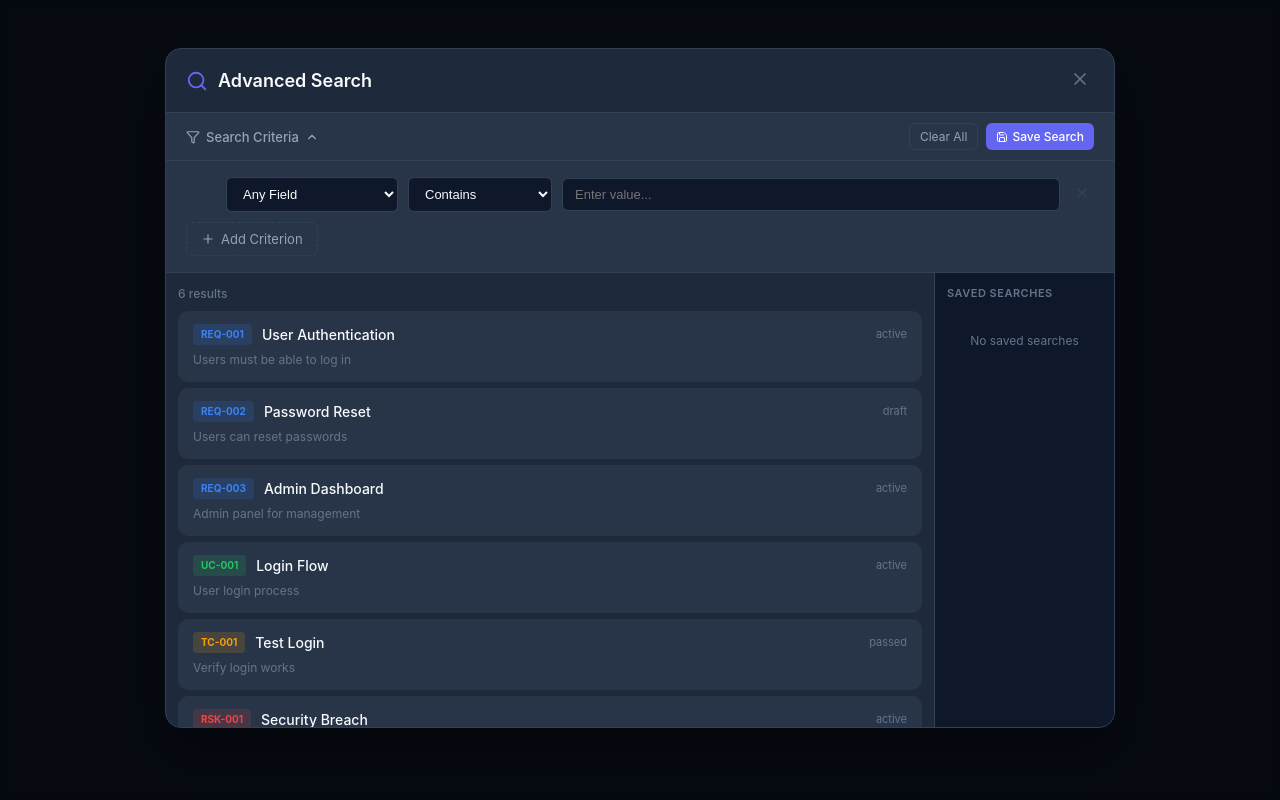
it: AdvancedSearchModal › applies multiple criteria with AND logic
Select "Status" in the 1st dropdown at (312, 194), box x1=226 y1=177 x2=398 y2=212
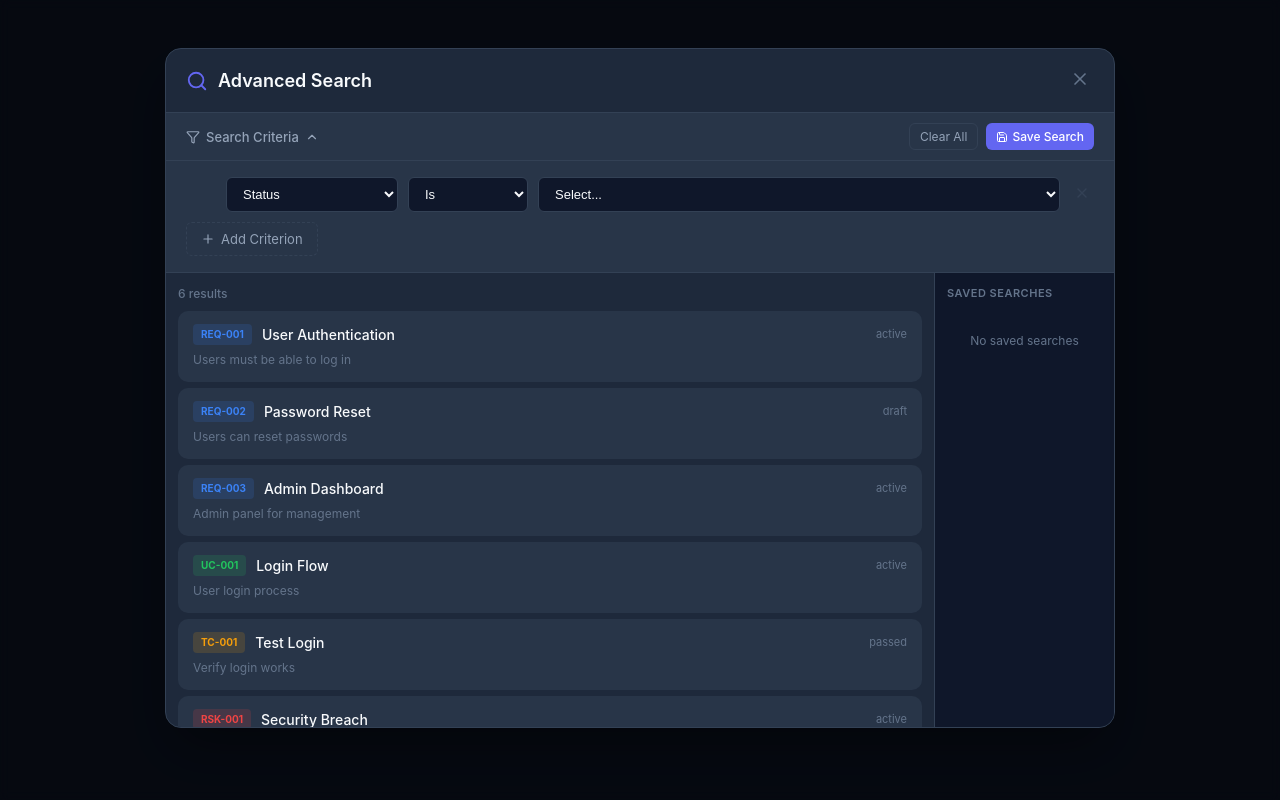
Select "active" in the 3rd dropdown at (799, 194), box x1=538 y1=177 x2=1060 y2=212
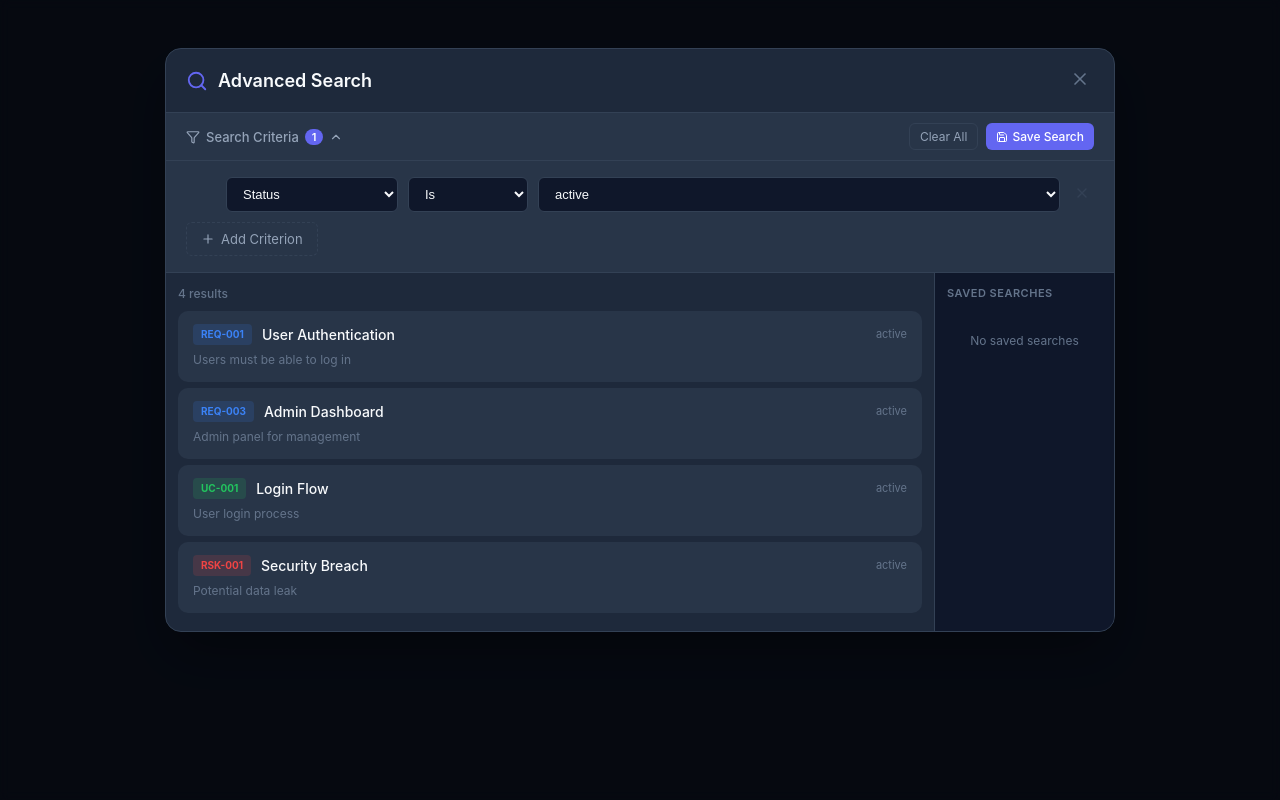
Add second criterion
Click the button "Add Criterion" at (252, 239), box x1=186 y1=222 x2=318 y2=256
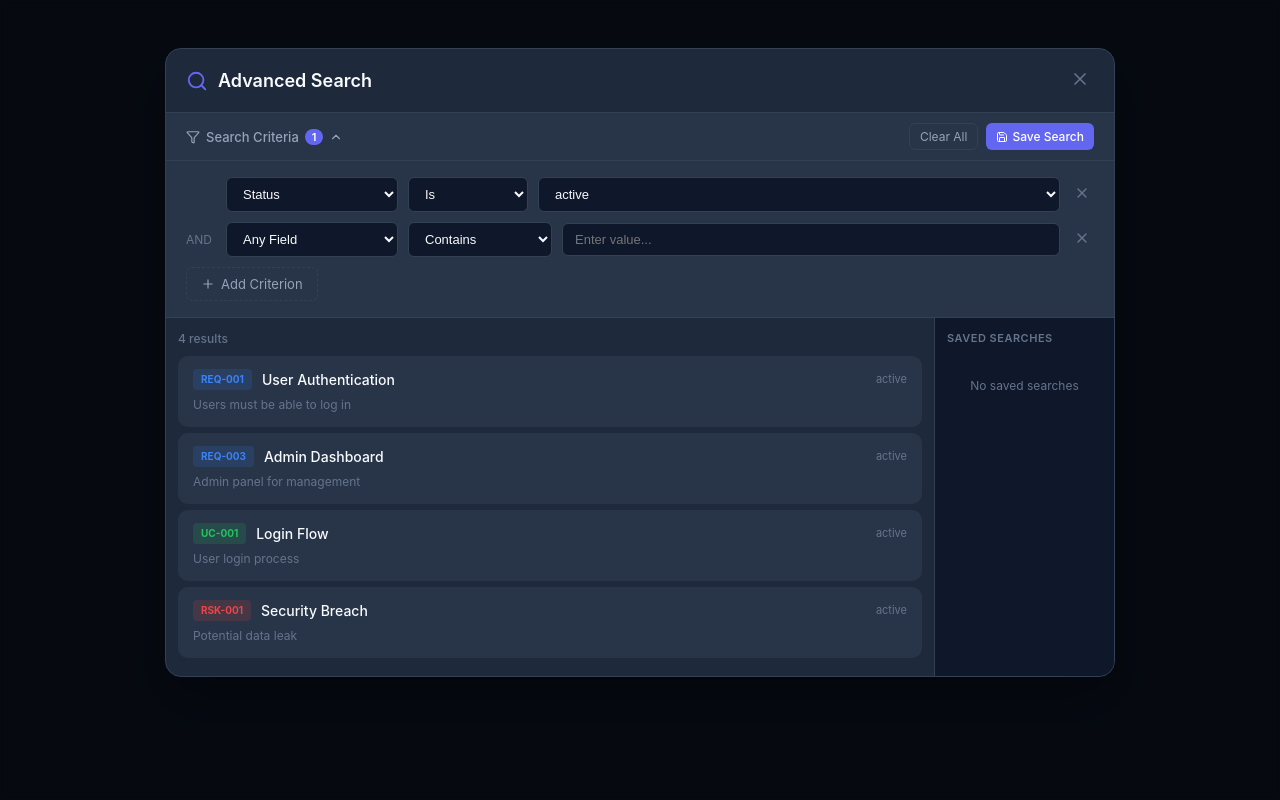
New criterion's property select should be last
Select "Author" in the 4th dropdown at (312, 240), box x1=226 y1=222 x2=398 y2=257
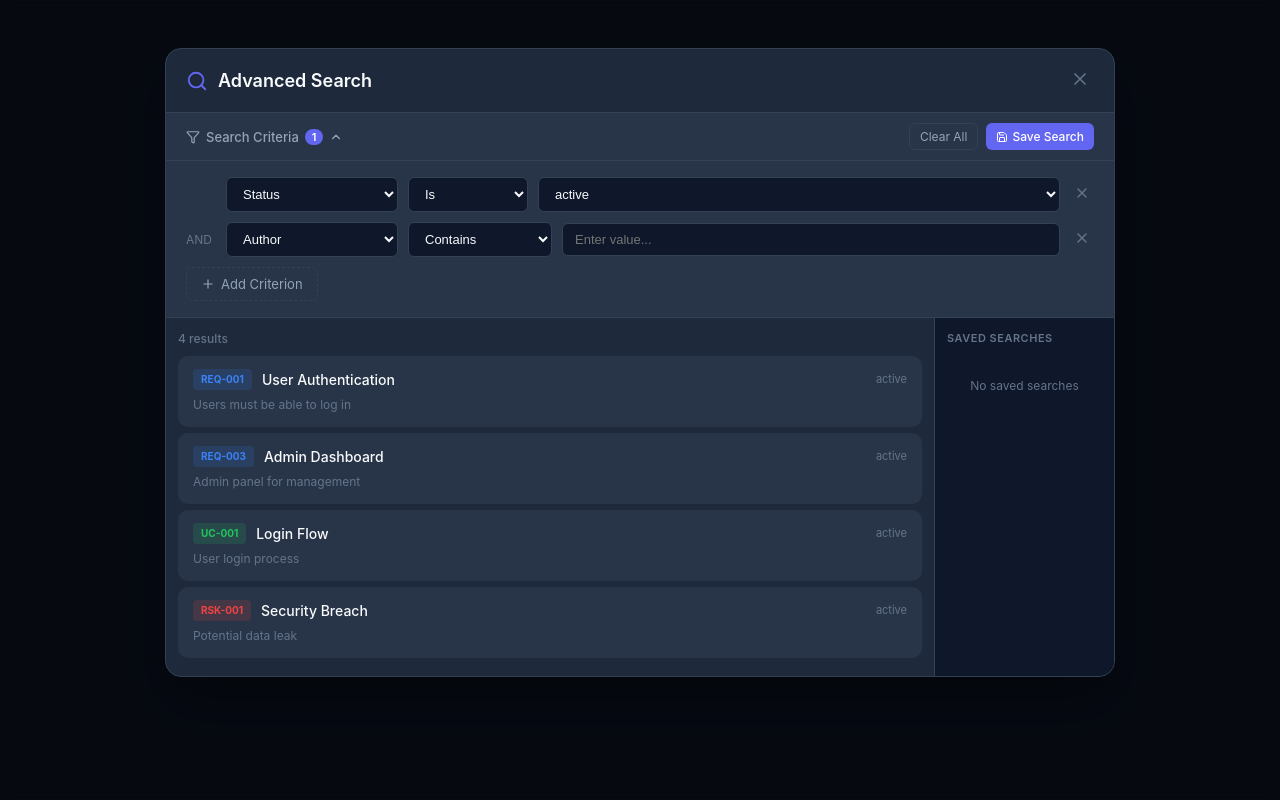
Type "John" into the field with placeholder "Enter value..." at (811, 240), box x1=562 y1=223 x2=1060 y2=256
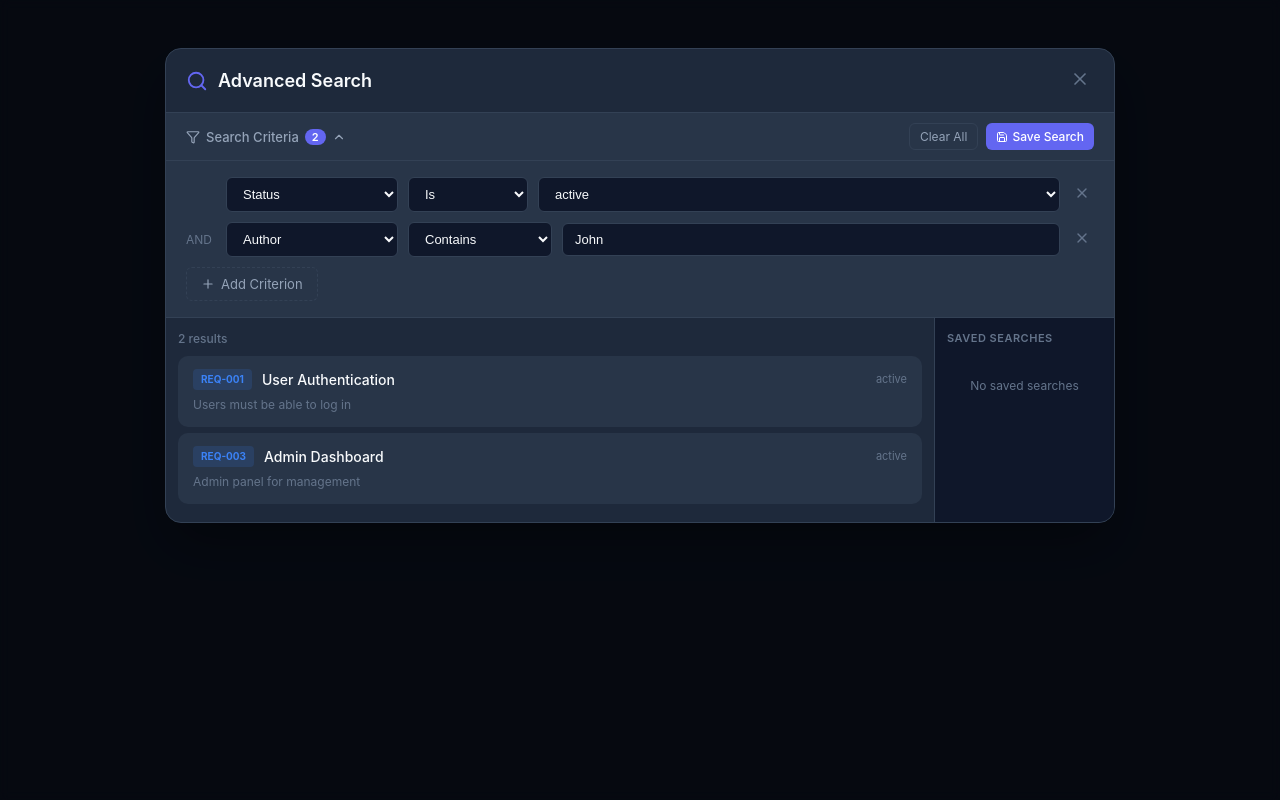
Expected: the text "REQ-001" is shown, x1=193 y1=369 x2=252 y2=390
Expected: the text "UC-001" is gone
